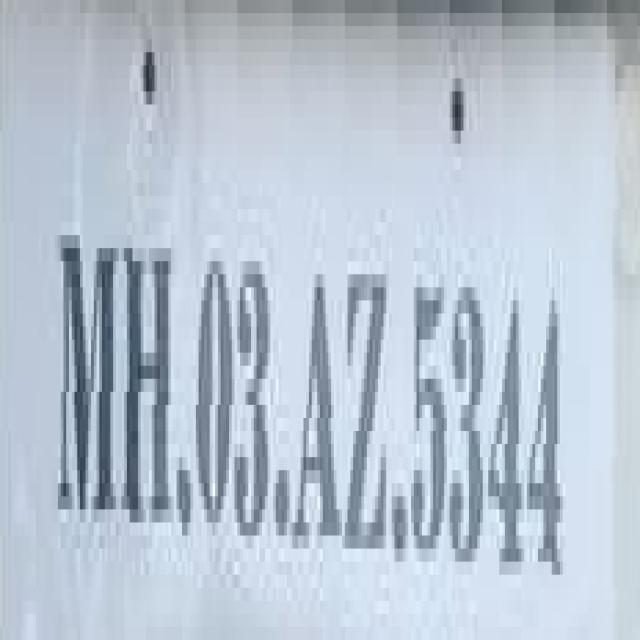license_plate: (0, 0, 612, 627)
